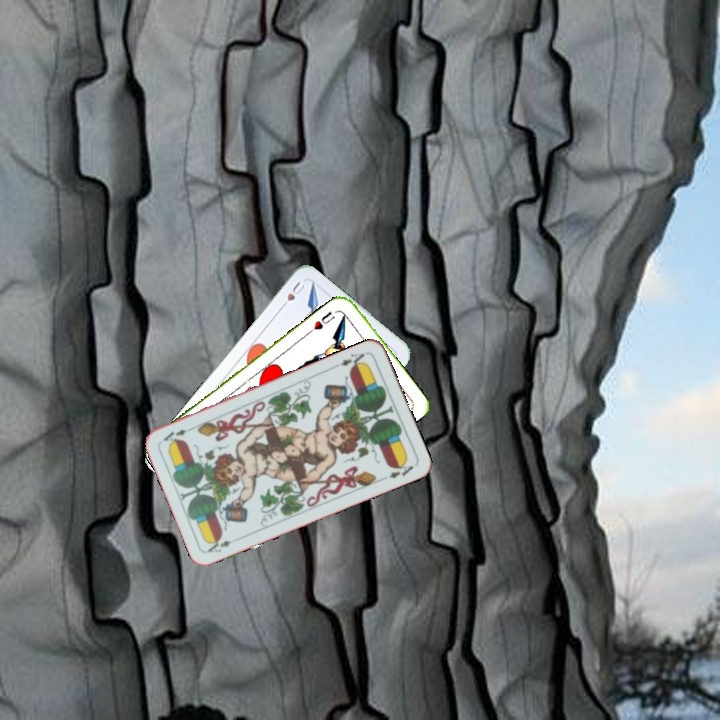EA: (203, 533, 242, 555), (331, 349, 368, 372)
HU: (276, 277, 307, 312), (309, 307, 337, 332)
